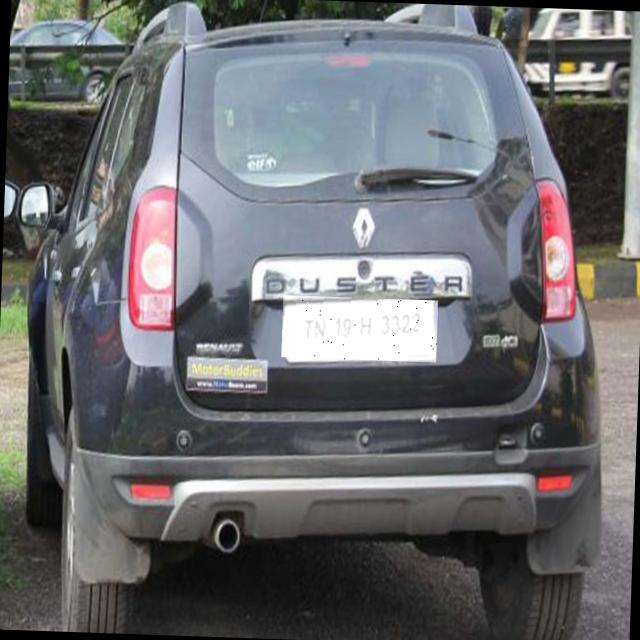Plate: (282, 296, 439, 363)
